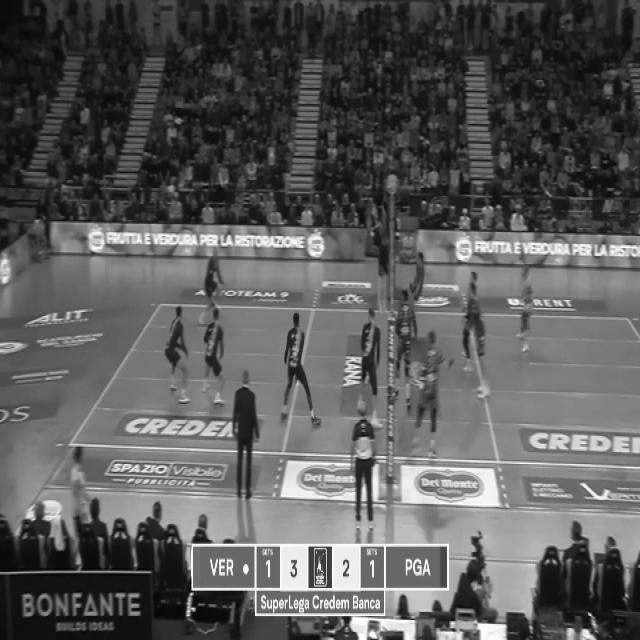volleyball court: (69, 300, 638, 464)
